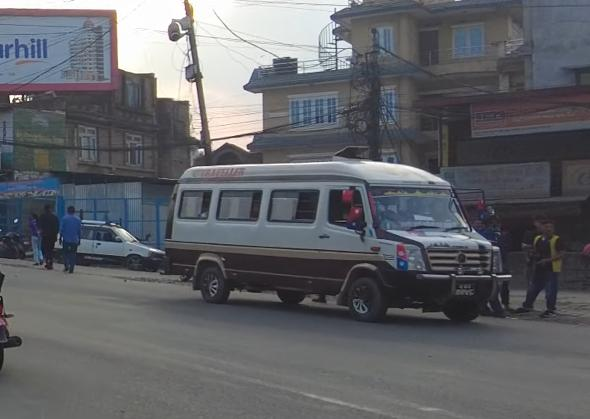micro_bus: (168, 157, 511, 326)
taxi: (42, 216, 169, 273)
